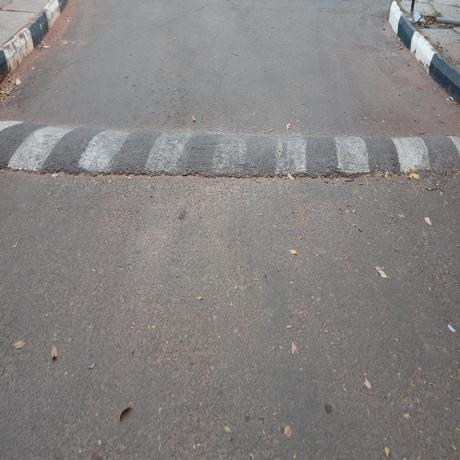Speed Bump: (0, 121, 459, 183)
